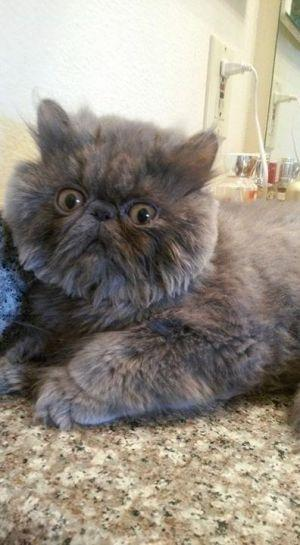persian: (1, 96, 232, 318)
